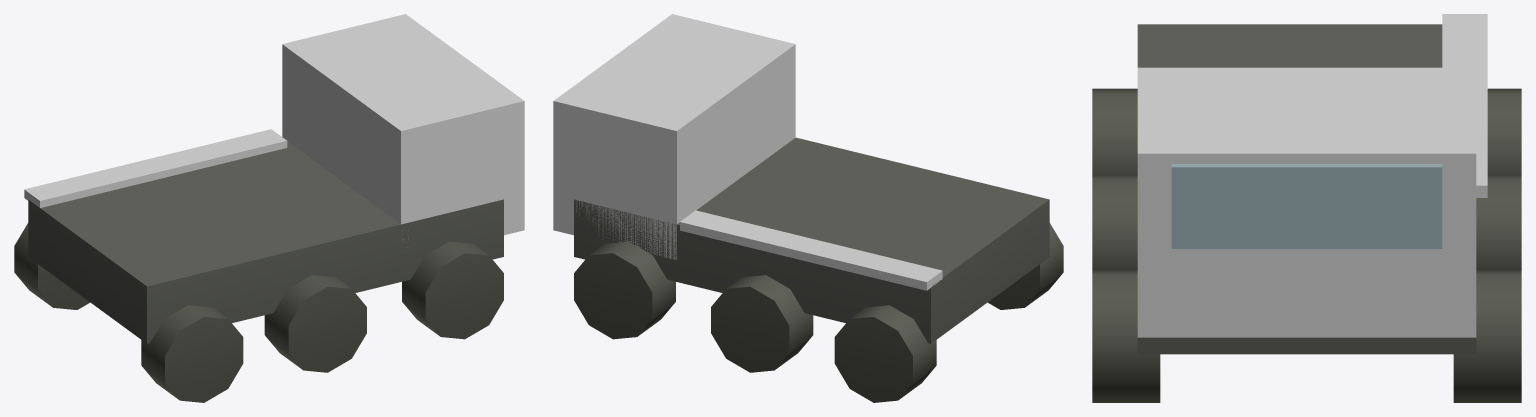
The model's file is m_krb_a80fc1c5.glb.
3 views of the same model, side by side, from view 1: azimuth 30°, elevation 25°; view 2: azimuth 150°, elevation 25°; view 3: azimuth 270°, elevation 25° (orthographic). The views are drawn at different scales.
Parts seen in each view (by area): view 1: mesh; view 2: mesh; view 3: mesh.
Boxes of the visible parts, left/top/right/bottom form: mesh: left=14, top=14, right=524, bottom=402; mesh: left=553, top=14, right=1063, bottom=402; mesh: left=1092, top=14, right=1521, bottom=402.
Size of the model in its own units: 27.85 by 14.5 by 19.
